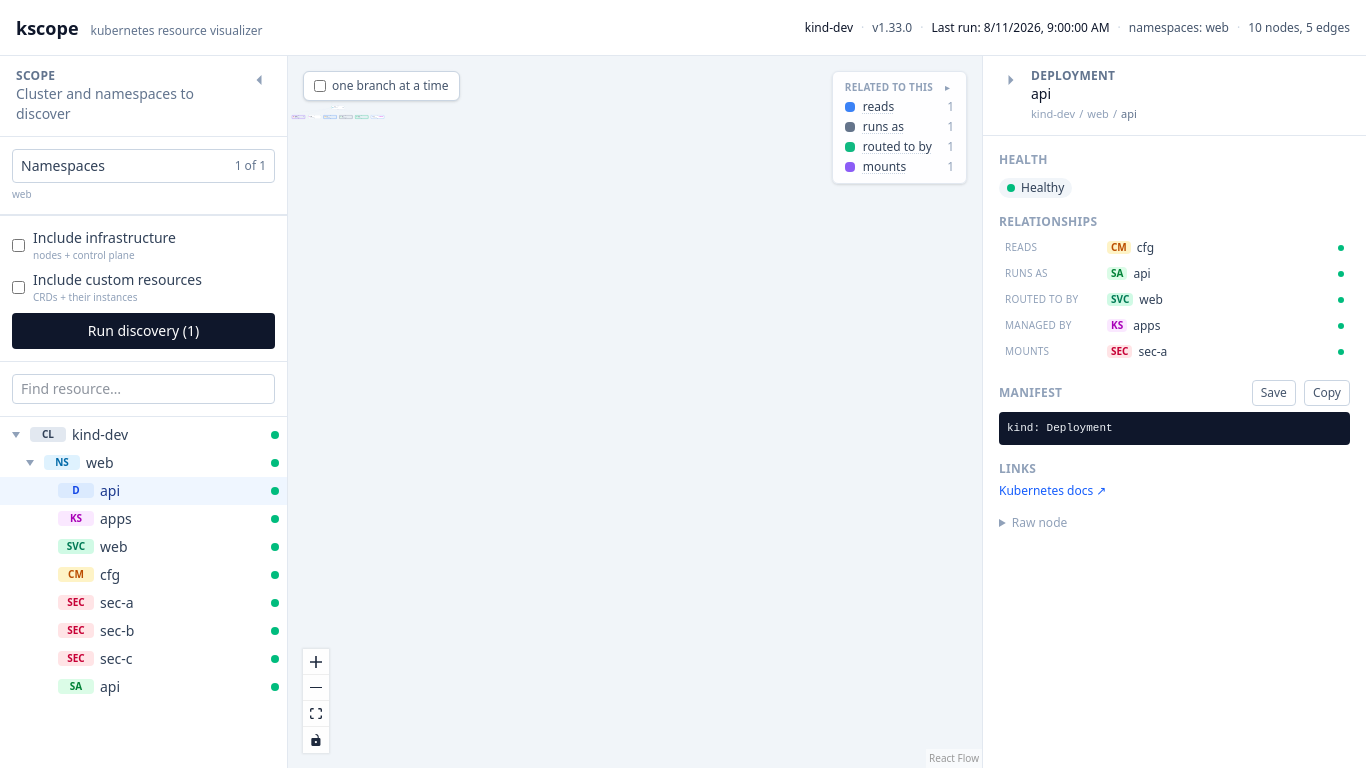
Scenario: related-resource list › names every related resource once expanded
Click the button named "show related resources": x=948, y=88 x1=941 y1=80 x2=954 y2=95
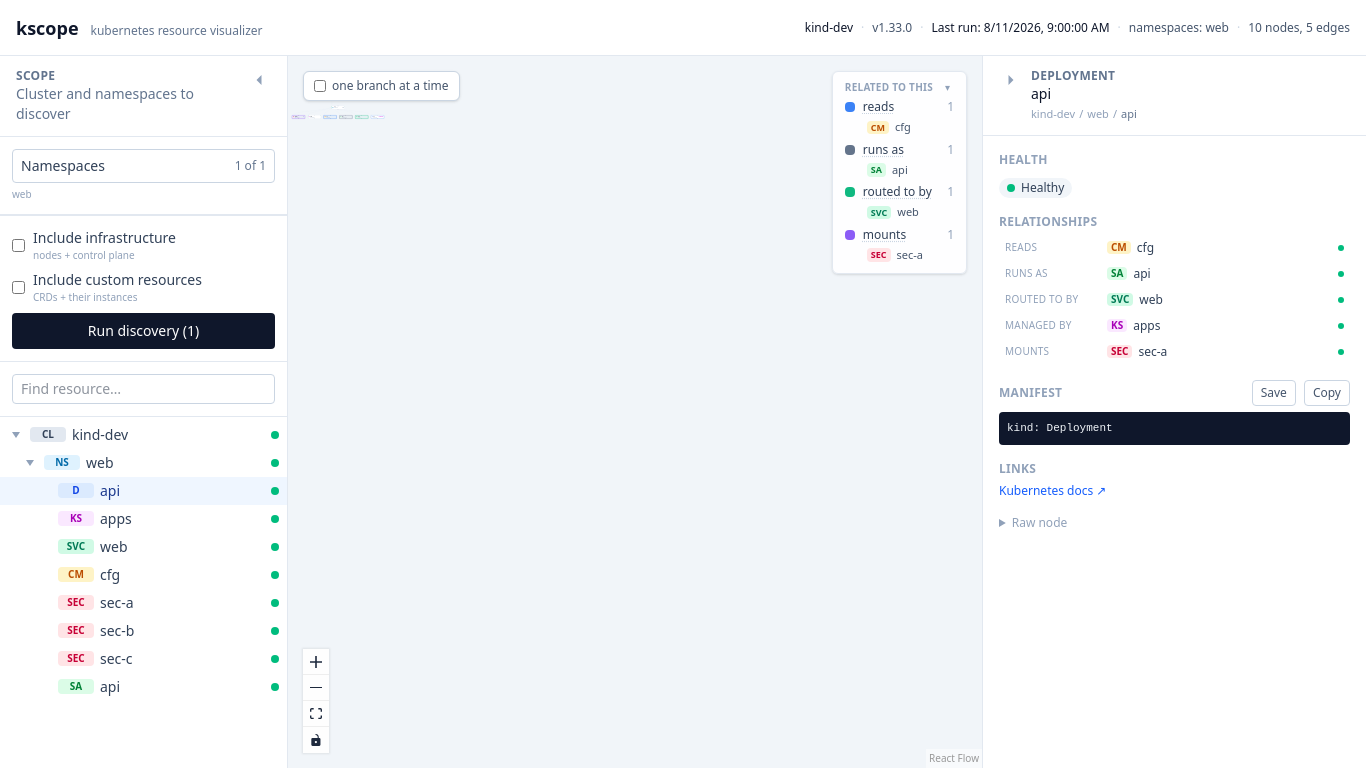
Check: the element named "Related to this" shows "cfg", box x1=863 y1=117 x2=954 y2=138
Check: the element named "Related to this" shows "sec-a", box x1=863 y1=244 x2=954 y2=265
